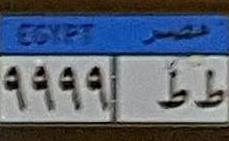9: (0, 63, 27, 115), (83, 64, 111, 113), (30, 64, 55, 117), (57, 65, 82, 117)
Taa: (155, 66, 189, 114), (194, 67, 225, 115)
